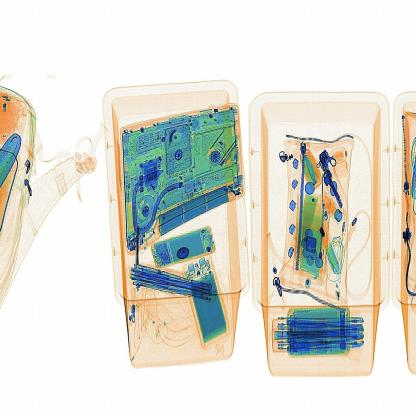knife: (129, 214, 153, 274)
